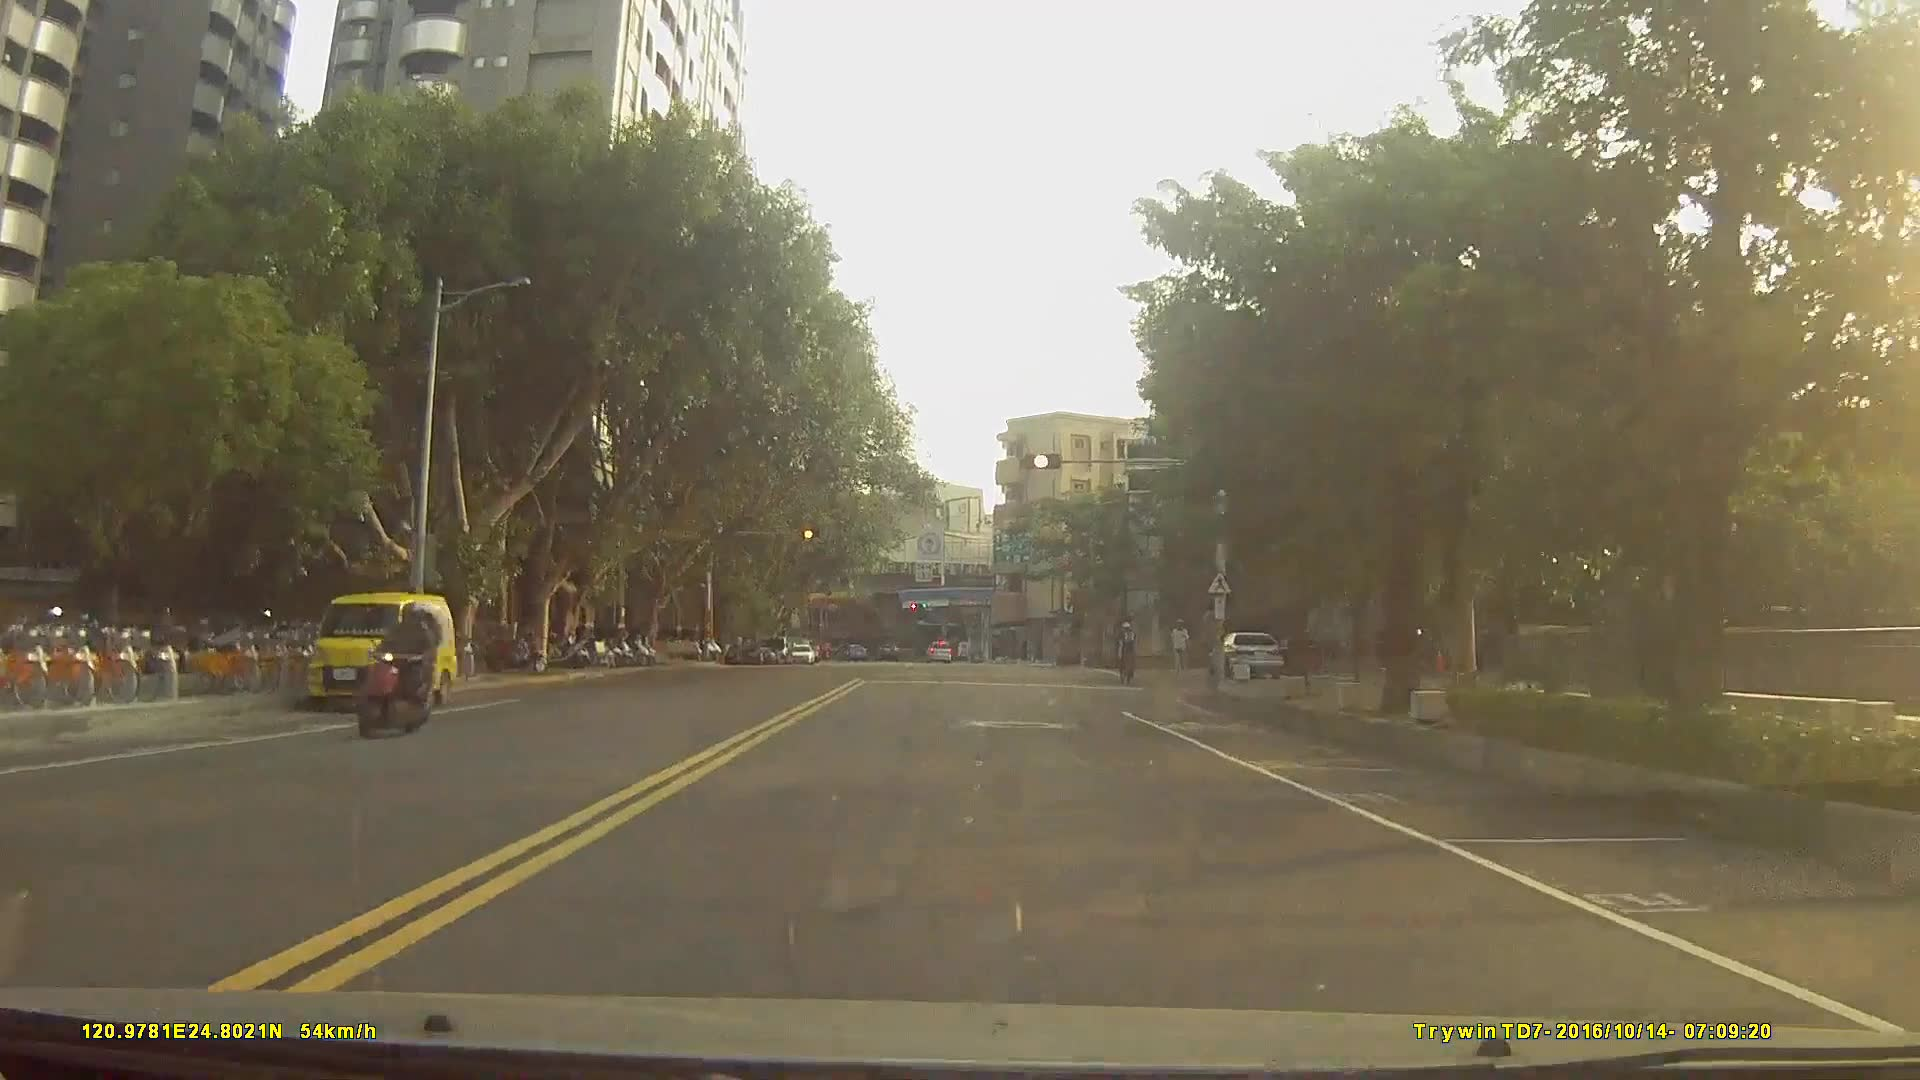pedestrian: (1171, 618, 1192, 680)
rider: (357, 600, 442, 741), (1116, 619, 1141, 679)
vehicle: (1205, 631, 1285, 679), (786, 640, 817, 662), (927, 641, 952, 664)
